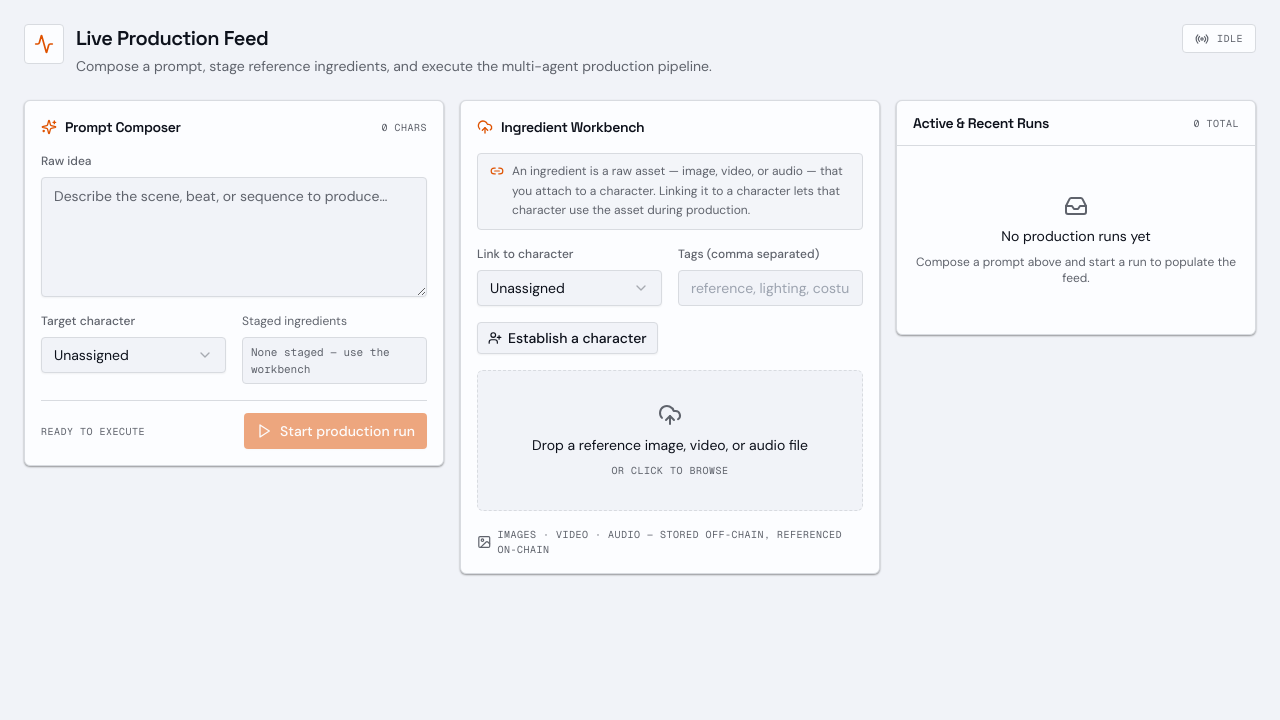
Scenario: LiveFeedPage › surfaces a submission error without navigating away
The image size is (1280, 720).
Type "Marlow crosses the Veil." into the text box with test id "feed.prompt.textarea".
click(234, 237); type("Marlow crosses the Veil.")  # box x1=41 y1=177 x2=427 y2=297
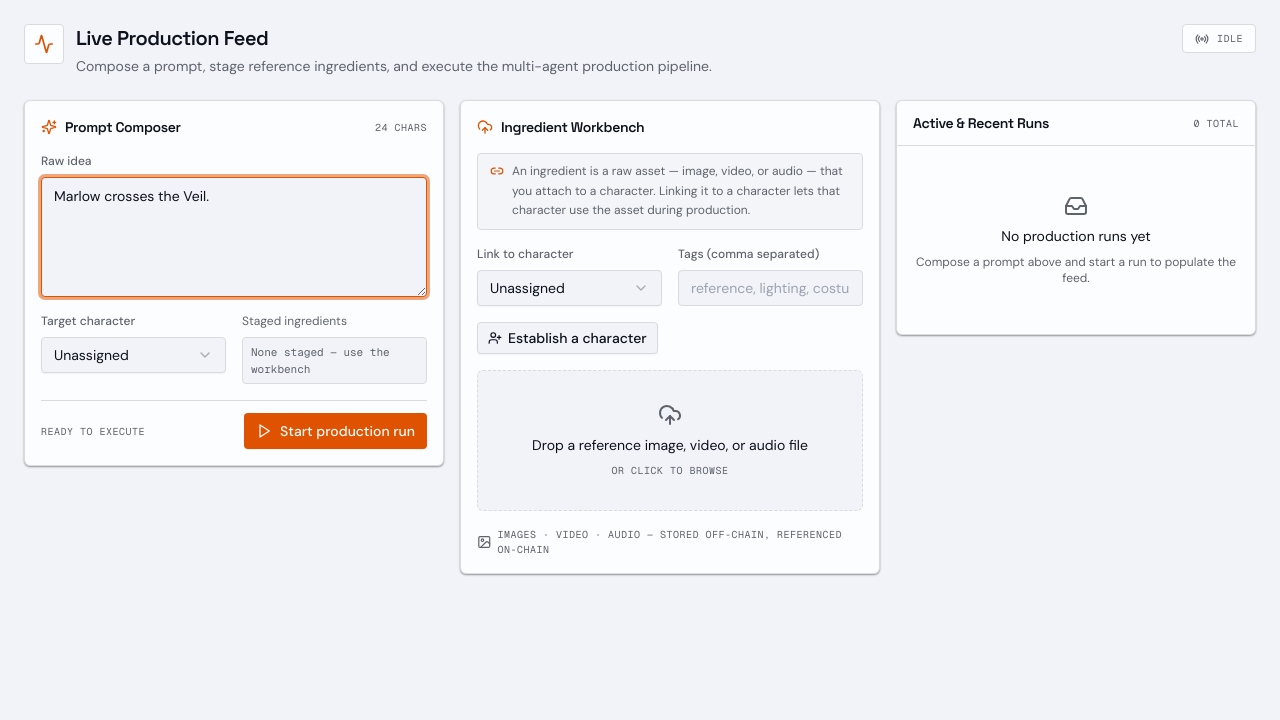
Click the button with test id "feed.prompt.submit_button".
click(336, 431)  # box x1=244 y1=413 x2=427 y2=449
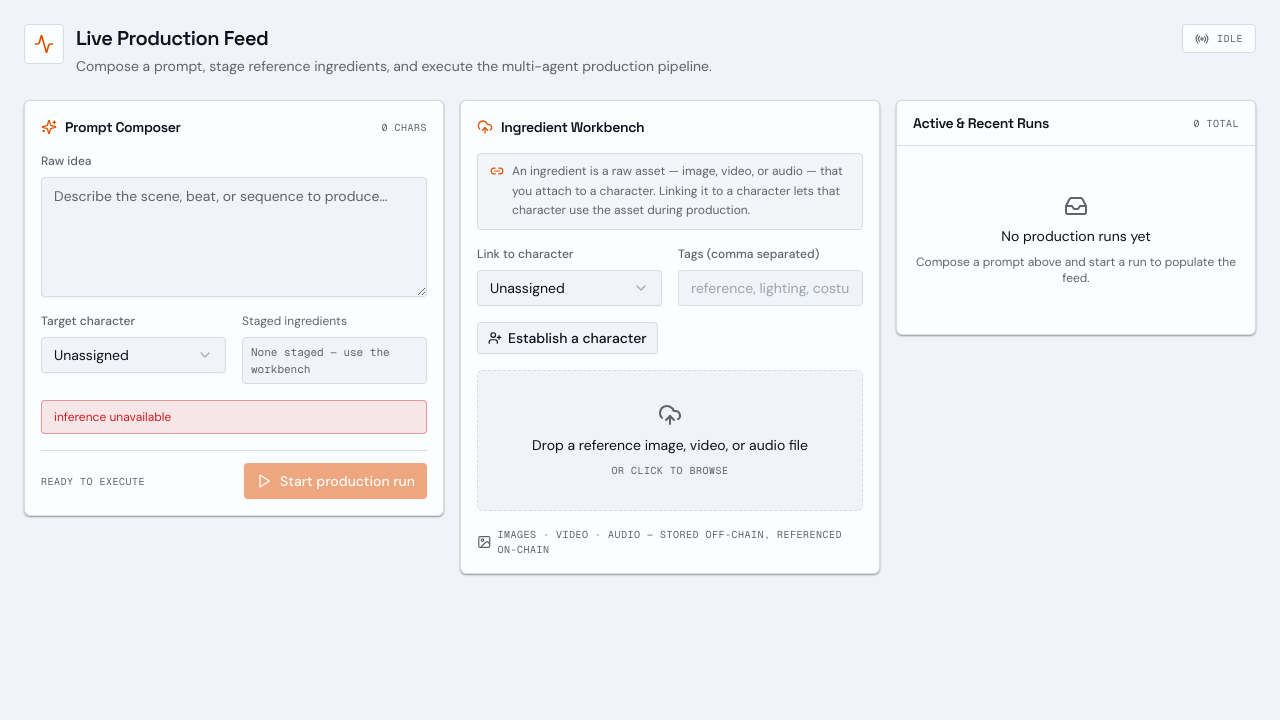
Expected: the message "inference unavailable" is shown, x1=41 y1=400 x2=427 y2=434
